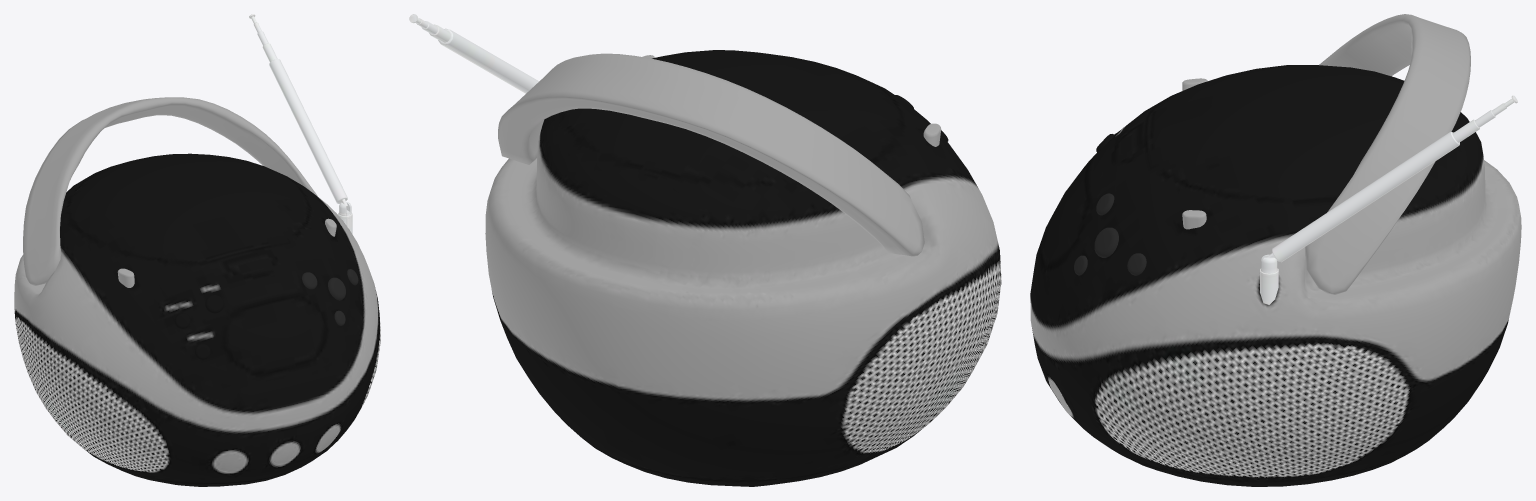
File: boombox.m.glb
3 views of the same model, side by side, from view 1: azimuth 30°, elevation 25°; view 2: azimuth 150°, elevation 25°; view 3: azimuth 270°, elevation 25° (orthographic). The views are drawn at different scales.
Parts seen in each view (by area): view 1: BoomBox; view 2: BoomBox; view 3: BoomBox.
Boxes of the visible parts, x1,y1,x2,y2 form: BoomBox: (14, 14, 380, 486); BoomBox: (409, 14, 1001, 486); BoomBox: (1030, 14, 1521, 486).
Size of the model in its own units: 0.3545 by 0.3491 by 0.36.
1 material, 1 textured.
